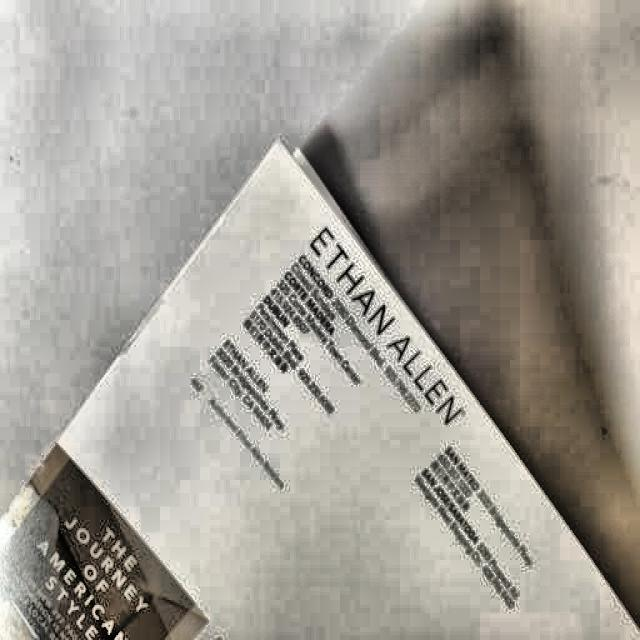paper: (11, 135, 640, 640)
